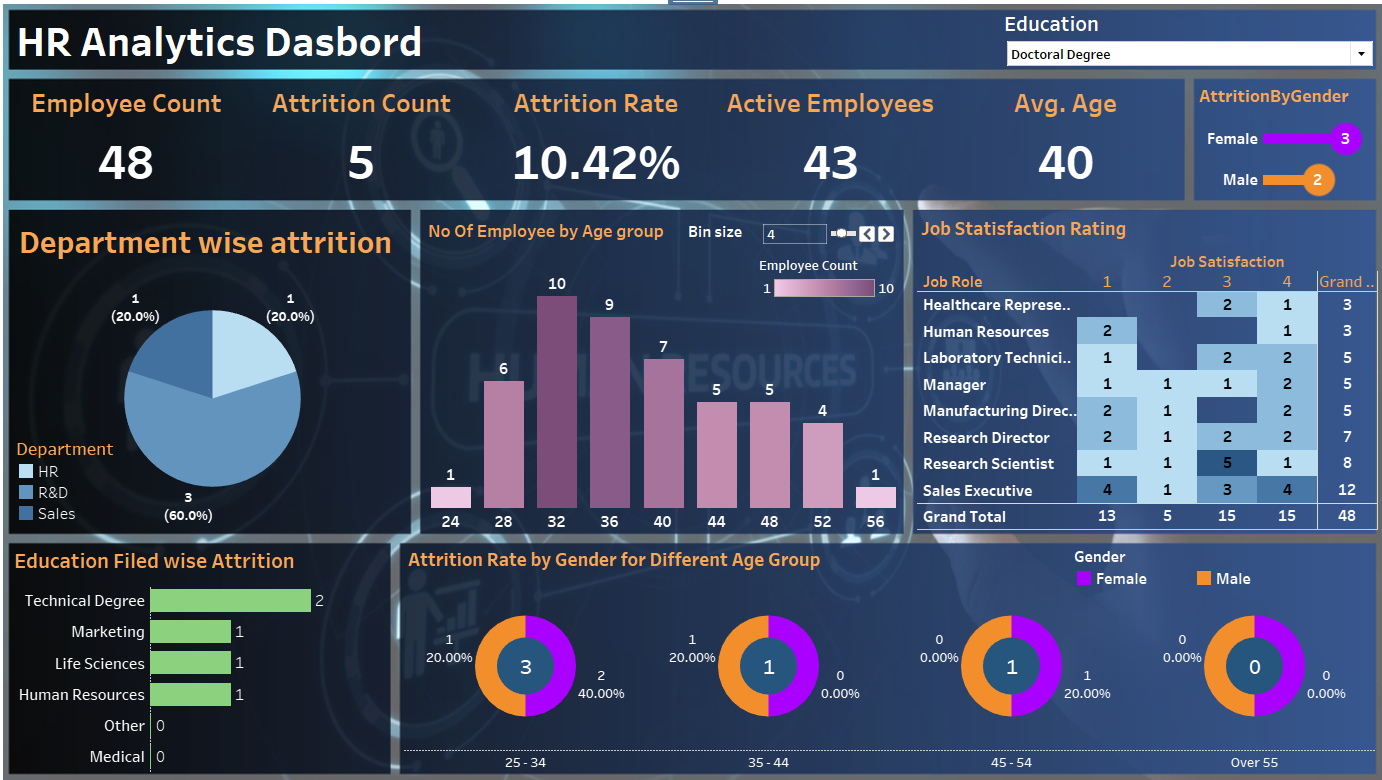

This screenshot's page, from the dashboard's own definition file:
{"tool":"tableau","page":{"name":"HR Anlytics Dashboard","canvas":[1580,800],"ordinal":0},"visuals":[{"type":"image","param":"Image/HR background.pptx.png","box":[8,8,1564,784]},{"type":"filter","title":"Attrition Rate by Gender for Different Age Group","param":"[federated.1pz73v21ymkjvh109syse1o9kmip].[none:Education:nk]","box":[1101,17,372,157]},{"type":"text","box":[110,19,448,57]},{"type":"worksheet","title":"KPI","mark":"Text","box":[106,87,1174,121]},{"type":"worksheet","title":"AttritionByGender","mark":"Automatic","rows":["Gender"],"cols":["Calculation_1749085535505080321","Calculation_1749085535505080321"],"box":[1292,88,179,120]},{"type":"worksheet","title":"Job Statisfaction Rating","mark":"Square","rows":["Job Role"],"cols":["Job Satisfaction"],"box":[1014,219,461,320]},{"type":"worksheet","title":"No Of Employee by Age group","mark":"Automatic","rows":["Employee Count"],"cols":["Age (bin)"],"box":[521,222,479,319]},{"type":"worksheet","title":"Department wise attrition","mark":"Pie","box":[112,224,395,309]},{"type":"parameter","param":"[Parameters].[Parameter 1]","box":[785,229,209,28]},{"type":"legend","title":"No Of Employee by Age group","param":"[federated.1pz73v21ymkjvh109syse1o9kmip].[sum:Employee Count:qk]","box":[856,264,140,88]},{"type":"legend","title":"Department wise attrition","param":"[federated.1pz73v21ymkjvh109syse1o9kmip].[none:Department:nk]","box":[113,444,140,93]},{"type":"worksheet","title":"Education Filed wise Attrition","mark":"Automatic","rows":["Education Field"],"cols":["Calculation_1749085535505080321"],"box":[107,550,382,230]},{"type":"worksheet","title":"Attrition Rate by Gender for Different Age Group","mark":"Pie","rows":["Calculation_1749085535849844742","Calculation_1749085535849844742"],"cols":["CF_age band"],"box":[501,550,972,230]},{"type":"legend","title":"Attrition Rate by Gender for Different Age Group","param":"[federated.1pz73v21ymkjvh109syse1o9kmip].[none:Gender:nk]","box":[1171,554,298,45]}]}

Visuals, with their boxes on the page's 1580x800 design canvas (x1, y1, x2, y2). These are canvas units, not pixel positions in the 1382x780 screenshot, which may show the page scaled, cropped or inside an application window:
image: x1=8 y1=8 x2=1572 y2=792
"Attrition Rate by Gender for Different Age Group" filter: x1=1101 y1=17 x2=1473 y2=174
text: x1=110 y1=19 x2=558 y2=76
"KPI" worksheet (Text marks): x1=106 y1=87 x2=1280 y2=208
"AttritionByGender" worksheet: x1=1292 y1=88 x2=1471 y2=208
"Job Statisfaction Rating" worksheet (Square marks): x1=1014 y1=219 x2=1475 y2=539
"No Of Employee by Age group" worksheet: x1=521 y1=222 x2=1000 y2=541
"Department wise attrition" worksheet (Pie marks): x1=112 y1=224 x2=507 y2=533
parameter: x1=785 y1=229 x2=994 y2=257
"No Of Employee by Age group" legend: x1=856 y1=264 x2=996 y2=352
"Department wise attrition" legend: x1=113 y1=444 x2=253 y2=537
"Education Filed wise Attrition" worksheet: x1=107 y1=550 x2=489 y2=780
"Attrition Rate by Gender for Different Age Group" worksheet (Pie marks): x1=501 y1=550 x2=1473 y2=780
"Attrition Rate by Gender for Different Age Group" legend: x1=1171 y1=554 x2=1469 y2=599
